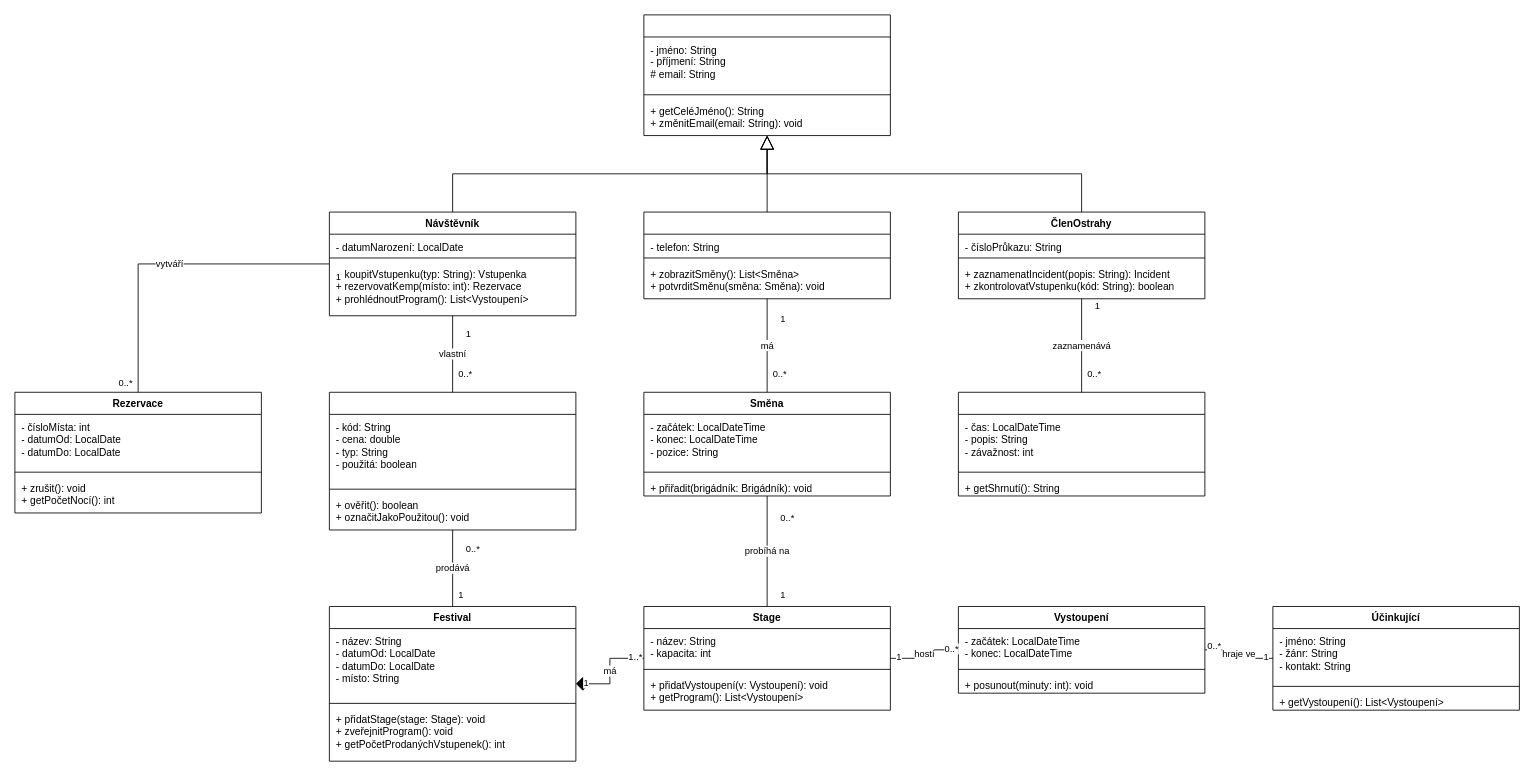
This 1534x779 diagram has some shape labels left out. The box of each missing label's shape, as (x1, y1, x2, y2) in pixels:
Brigádník: (643, 211, 890, 299)
Incident: (958, 391, 1205, 496)
Osoba: (643, 14, 890, 136)
Vstupenka: (329, 391, 576, 530)
